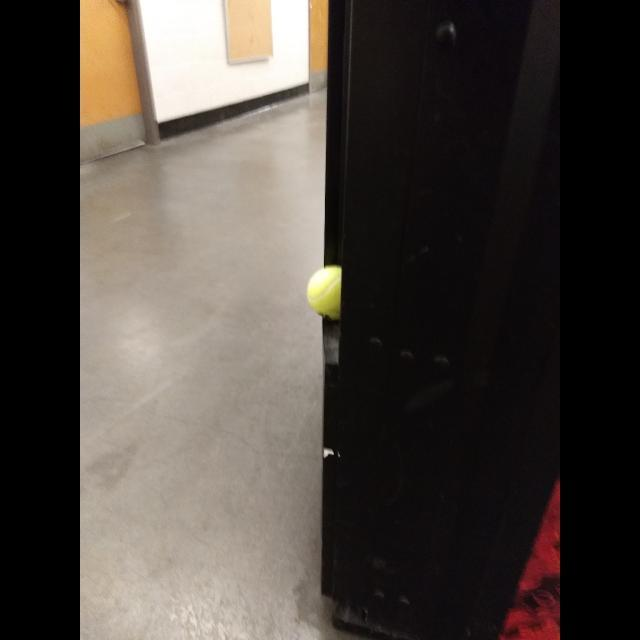tennis-ball: (307, 265, 356, 321)
